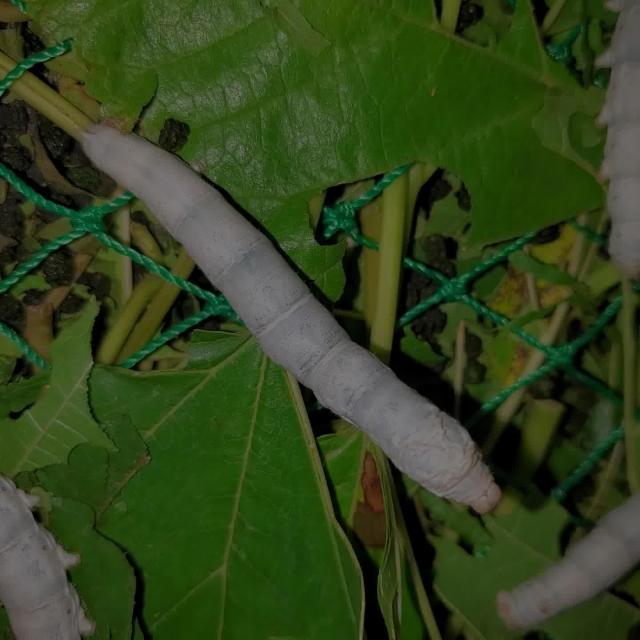Healthy: (51, 101, 524, 522)
